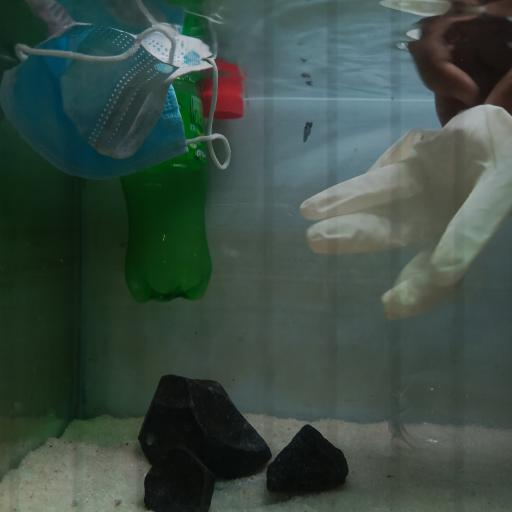bottle_cap: (202, 95, 244, 119)
glove: (299, 105, 512, 323)
mask: (1, 20, 231, 180)
plastic_bottle: (124, 83, 213, 305), (389, 372, 512, 468)
